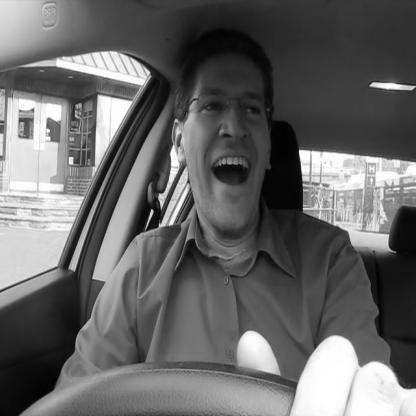no_seatbelt: (138, 9, 298, 400)
